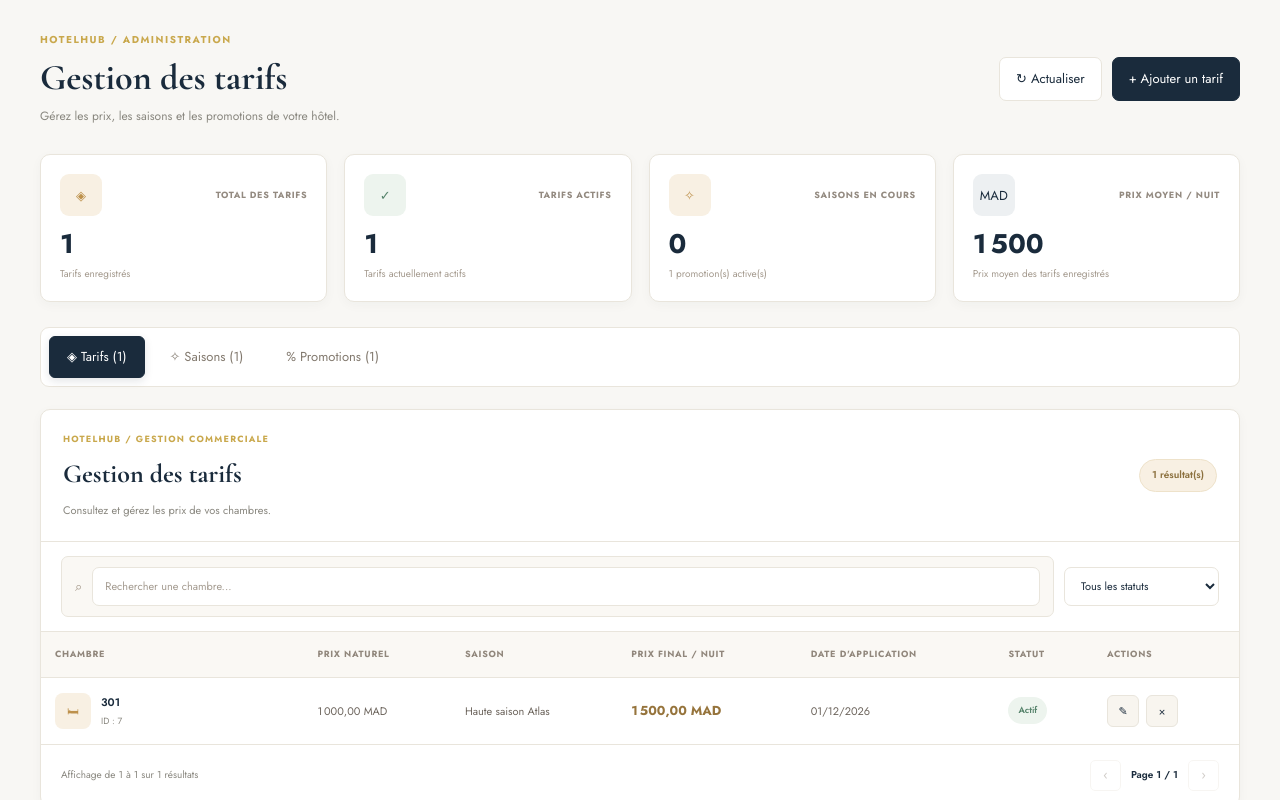
AdminTarifsPage › filtre les tarifs inactifs
Expected: the table is shown, [41, 632, 1239, 744]
Select "Inactifs" in the dropdown: (1142, 586) [1064, 567, 1219, 606]
(page scrolled)
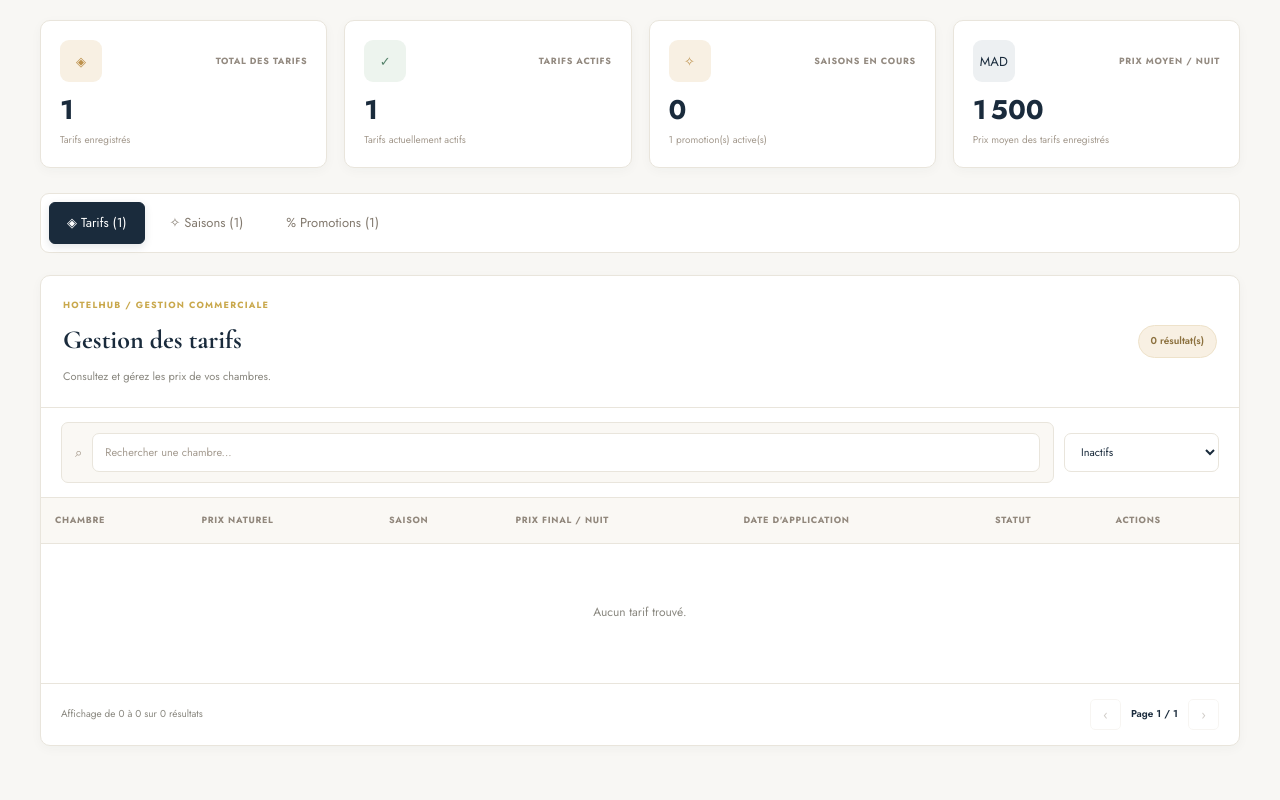
Now the text "Aucun tarif trouvé." is shown, box [41, 543, 1239, 683]
